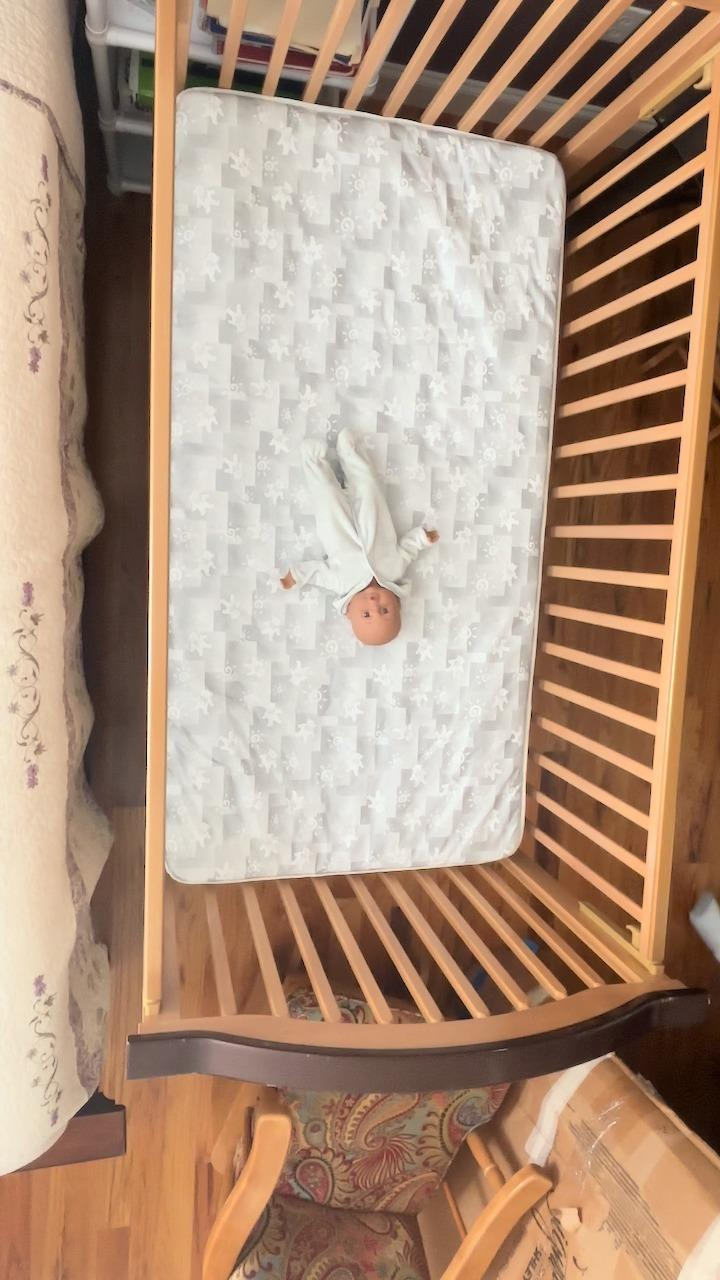baby: (279, 427, 443, 647)
